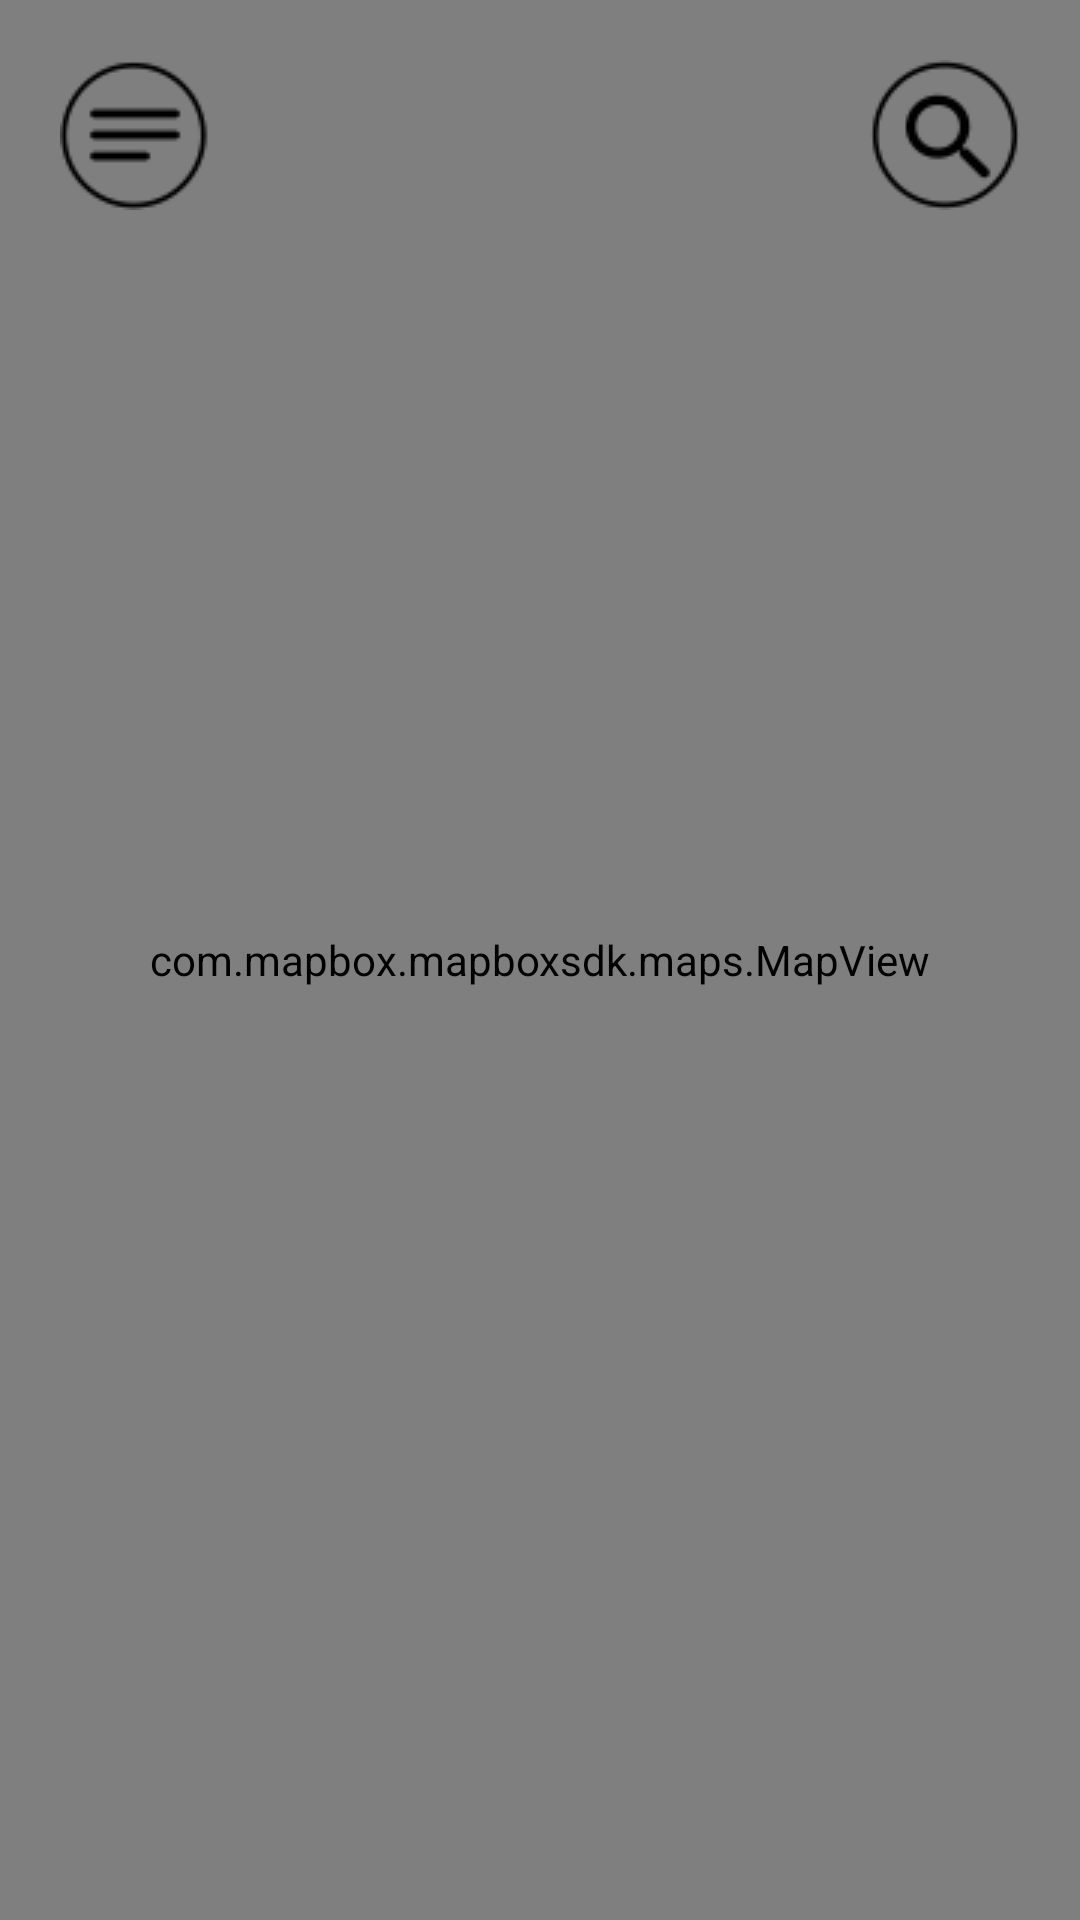

Named icons in this screenshot (1080×1920) and their centers, (x=x, y=y):
search: (x=945, y=135)
